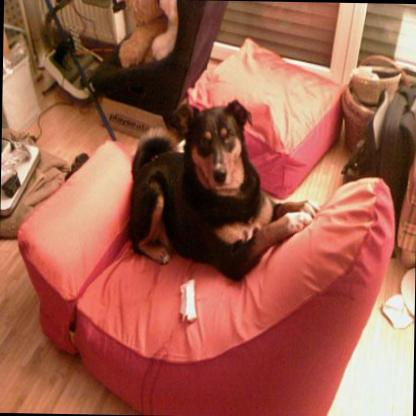Appenzeller: (126, 98, 320, 282)
